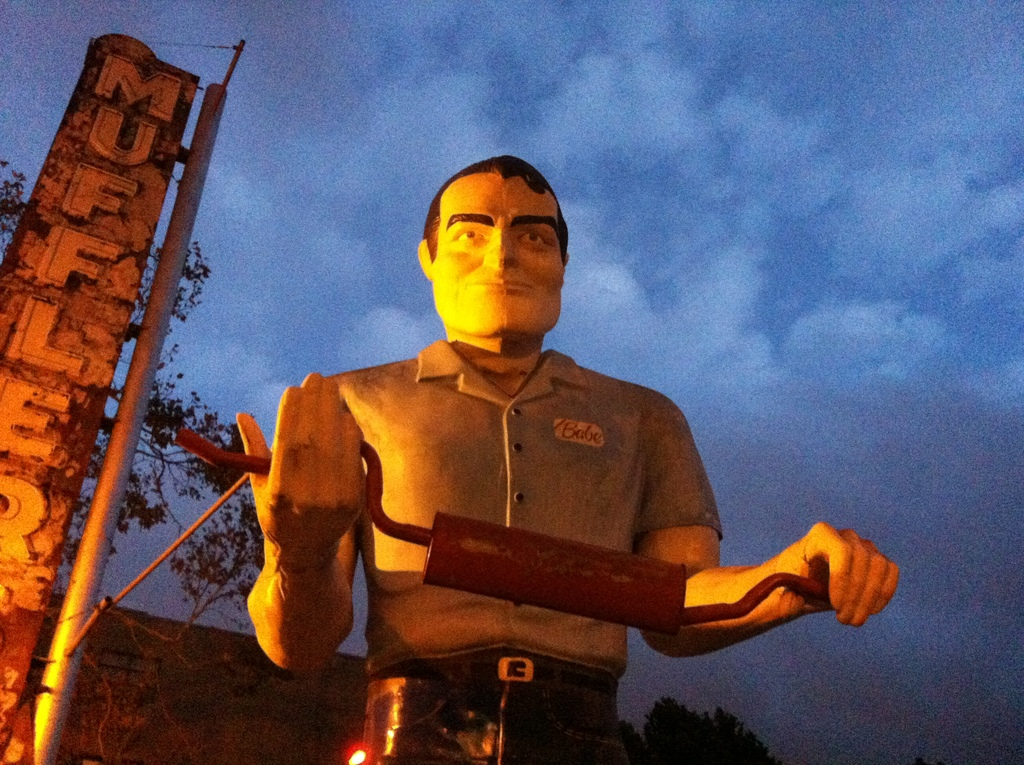Human_hand: (230, 375, 371, 644), (787, 520, 899, 627)
